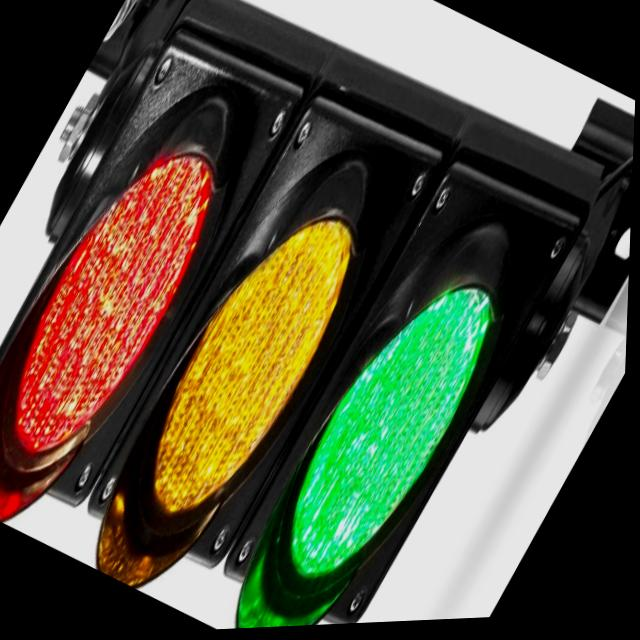Hijau: (246, 252, 522, 625)
Kuning: (115, 187, 382, 543)
Merah: (0, 119, 244, 479)
